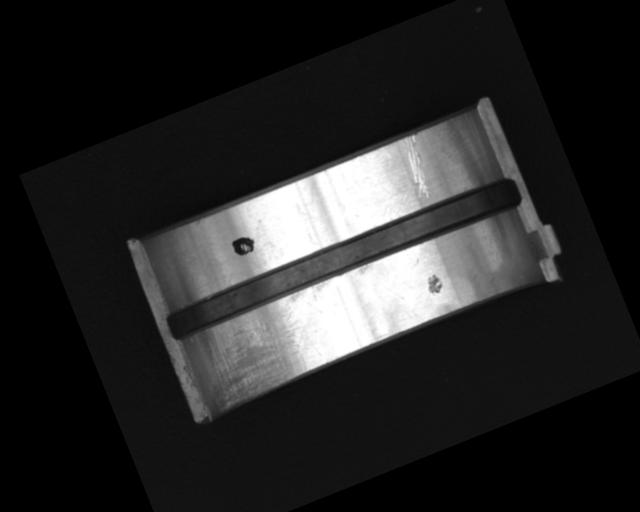blot: (228, 231, 259, 259)
bruise: (421, 269, 447, 298)
gap: (159, 171, 526, 346)
nick: (393, 130, 440, 202)
scratch: (184, 288, 333, 416)
